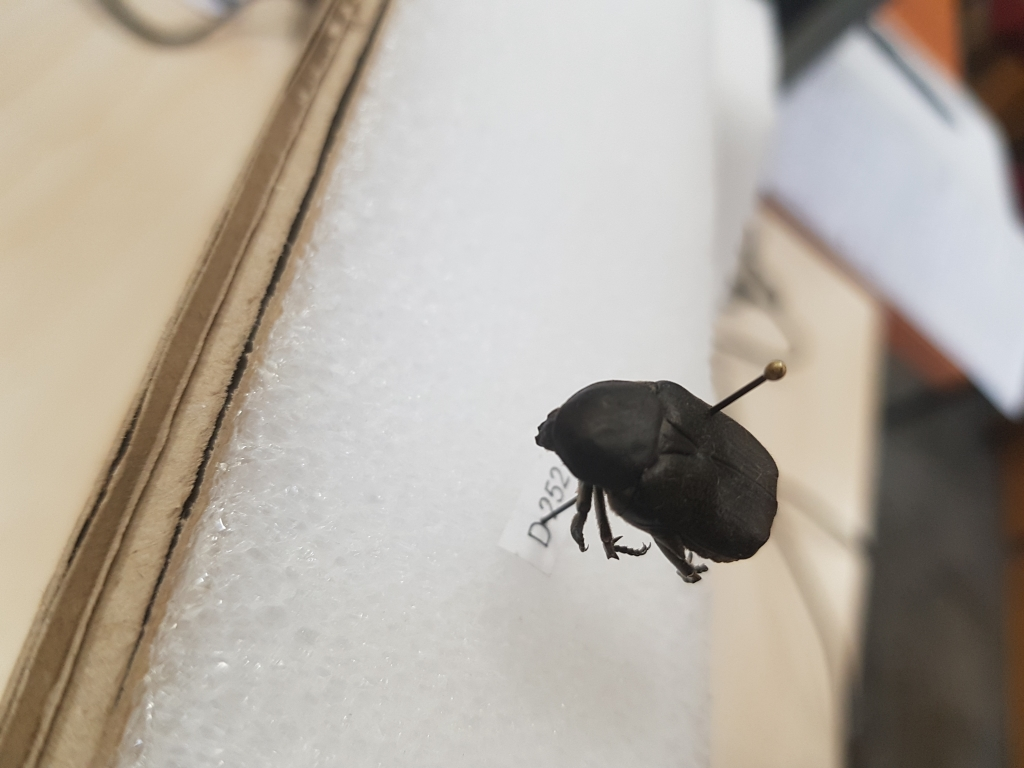Protaetia_vidua: (530, 378, 786, 589)
